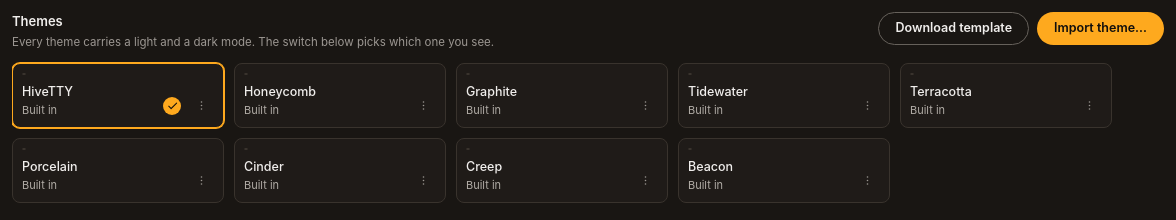
ThemeGallery › offers no Remove on honeycomb
Click the button named "Honeycomb actions": (424, 106) [411,93,436,118]
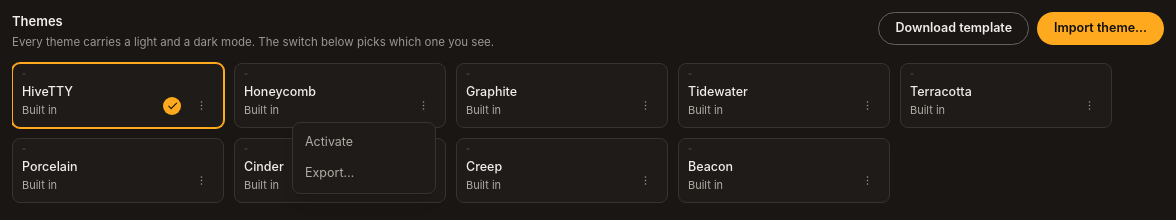
Now the menu item "Export…" is shown, box [305,165,354,180]
